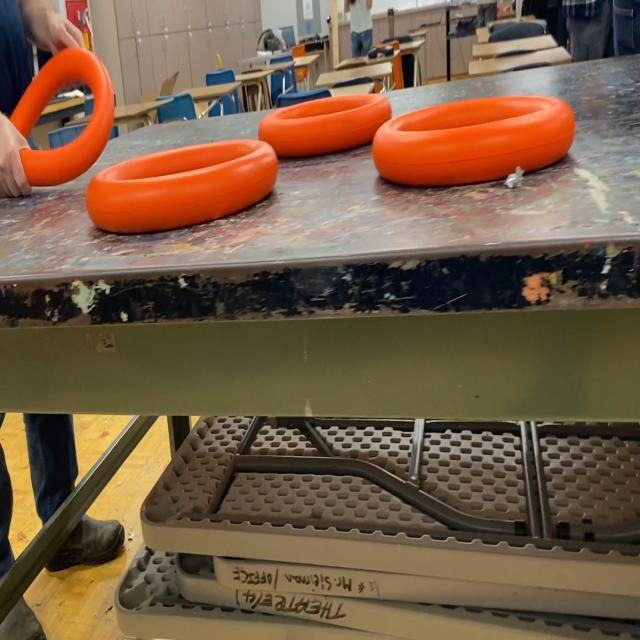note: (85, 133, 281, 233), (371, 93, 576, 187), (8, 45, 114, 186), (257, 91, 391, 156)
